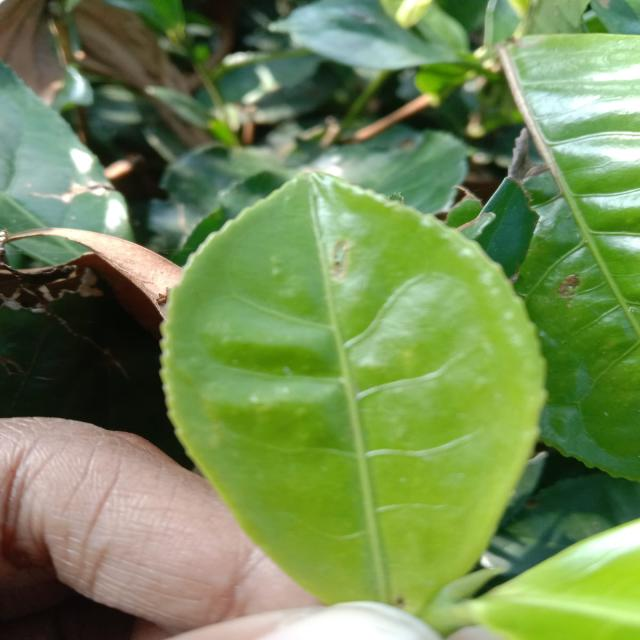Category B(2-4 days): (148, 157, 551, 623)
